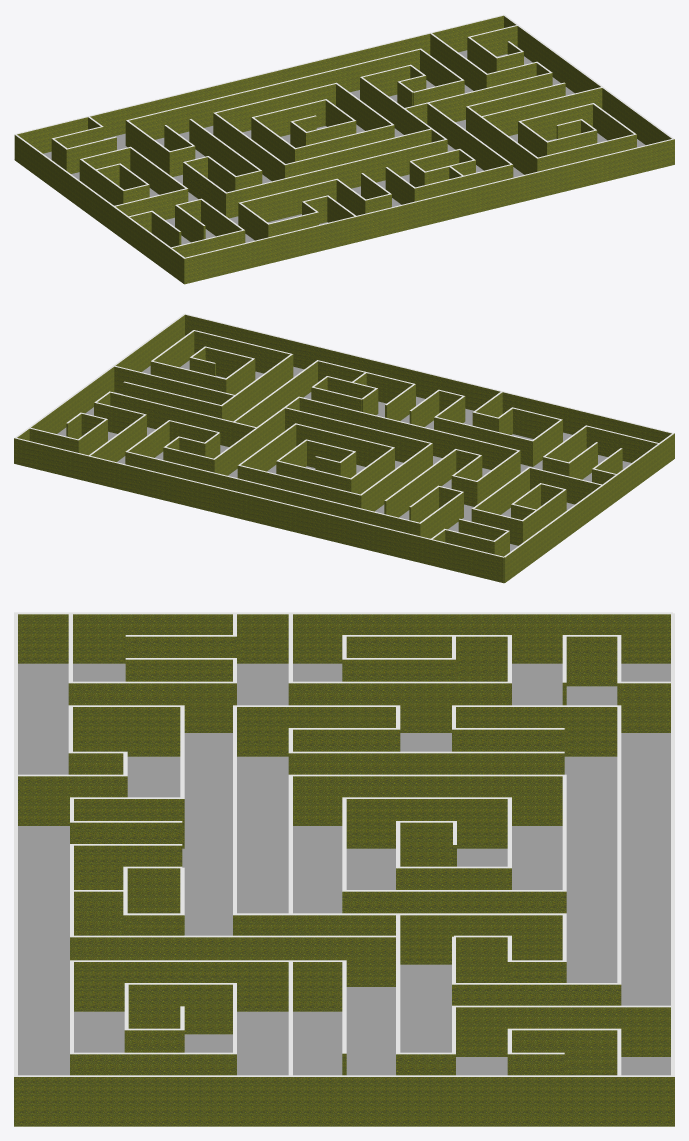
The model's file is Laberinto.obj.
3 renders of one model, top to bottom at view 1: azimuth 30°, elevation 25°; view 2: azimuth 150°, elevation 25°; view 3: azimuth 270°, elevation 25°, orthographic. The views are drawn at different scales.
Visible parts, largest first — view 1: wall_2_11, wall_4_22, wall_1_5, wall_76_455, wall_3_16, wall_34_203, ground_1, wall_74_443, wall_46_275, wall_75_449, wall_60_358, wall_73_437 (+53 smaller); view 2: wall_4_23, wall_2_10, wall_1_5, wall_3_16, wall_76_454, wall_34_202, ground_1, wall_74_442, wall_60_359, wall_70_418, wall_75_448, wall_73_437 (+52 smaller); view 3: ground_1, wall_3_17, wall_1_4, wall_73_436, wall_58_347, wall_38_227, wall_19_113, wall_86_515, wall_70_419, wall_37_221, wall_10_59, wall_84_502 (+42 smaller).
Part boxes in pixels (x1,y1,x2,y2): wall_2_11: (184,139,674,284); wall_4_22: (17,15,503,153); wall_1_5: (14,135,184,283); wall_76_455: (201,49,419,127); wall_3_16: (504,16,671,144); wall_34_203: (226,158,373,218); ground_1: (14,50,645,244); wall_74_443: (285,129,431,177); wall_46_275: (483,88,602,135); wall_75_449: (216,84,335,132); wall_60_358: (429,73,552,121); wall_73_437: (213,113,284,181); wall_4_23: (14,438,504,583); wall_2_10: (185,314,671,442); wall_1_5: (504,433,674,582); wall_3_16: (17,315,184,440); wall_76_454: (125,452,346,517); wall_34_202: (372,415,516,469); ground_1: (57,360,631,583); wall_74_442: (285,408,429,462); wall_60_359: (110,392,233,446); wall_70_418: (385,450,456,517); wall_75_448: (237,465,361,508); wall_73_437: (361,443,432,511); ground_1: (18,663,670,1075); wall_3_17: (14,1077,674,1126); wall_1_4: (18,614,670,663); wall_73_436: (293,776,562,825); wall_58_347: (456,1007,670,1056); wall_38_227: (74,962,288,1011); wall_19_113: (288,683,511,732); wall_86_515: (346,799,507,848); wall_70_419: (288,753,564,774); wall_37_221: (70,937,290,960); wall_10_59: (68,683,236,732); wall_84_502: (342,891,566,913).
Size of the model in its own units: 2008 by 100 by 1208.
